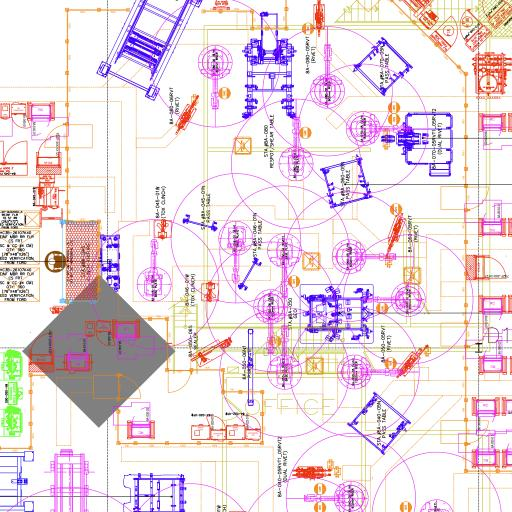robot: (336, 351, 404, 391), (345, 109, 412, 147), (266, 233, 303, 300), (361, 282, 426, 320), (277, 116, 314, 182), (217, 219, 254, 285), (330, 238, 397, 274), (268, 324, 303, 392), (198, 45, 234, 111), (309, 44, 346, 108), (137, 238, 172, 302), (305, 478, 370, 511)
